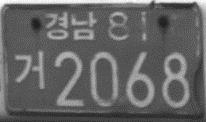0: (89, 51, 119, 106)
1: (135, 11, 155, 38)
2: (53, 50, 84, 106)
6: (125, 51, 155, 108)
8: (160, 52, 190, 108), (106, 10, 131, 41)
거: (13, 50, 45, 90)
경남_O: (43, 10, 98, 41)
